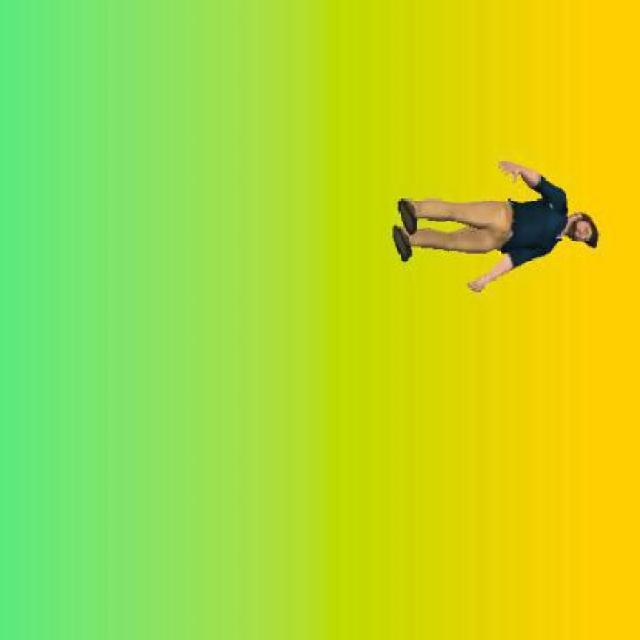Person: (392, 156, 602, 295)
